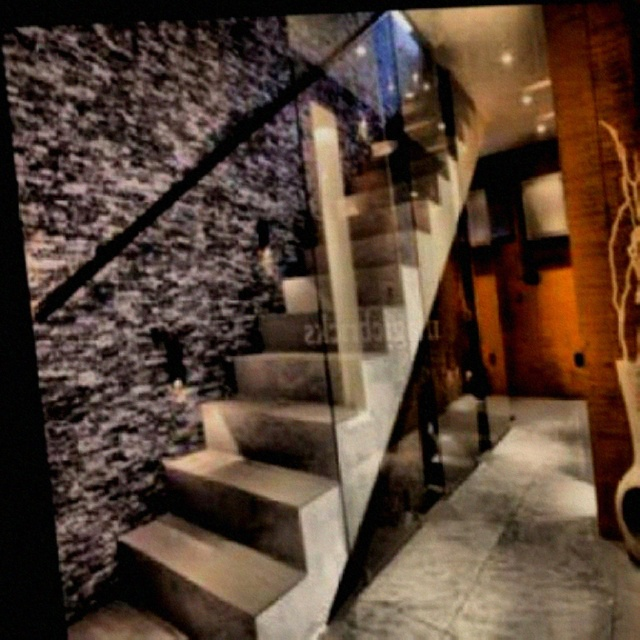stair: (30, 45, 521, 639)
